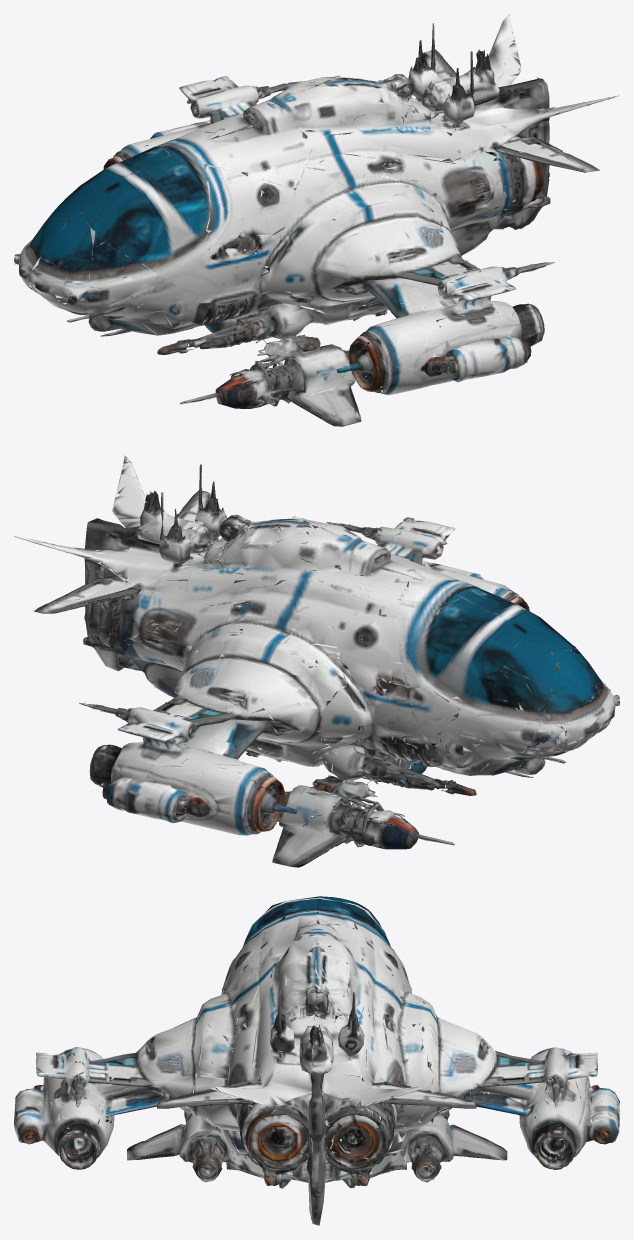
Rendered from scout1.glb.
The picture shows the model from 3 angles, top to bottom: view 1: azimuth 30°, elevation 25°; view 2: azimuth 150°, elevation 25°; view 3: azimuth 270°, elevation 25°; orthographic projection. The views are drawn at different scales.
Parts seen in each view (by area): view 1: Object_11, Object_13, Object_14, Object_12, Object_5, Object_10, Object_7, Object_6, Object_15, Object_9, Object_8; view 2: Object_7, Object_9, Object_8, Object_10, Object_6, Object_5, Object_11, Object_15, Object_12, Object_13, Object_14; view 3: Object_8, Object_11, Object_9, Object_5, Object_14, Object_7, Object_12, Object_6, Object_13, Object_10, Object_15.
Boxes of the visible parts, x1=… form: Object_11: x1=46, y1=49, x2=588, y2=336; Object_13: x1=88, y1=97, x2=610, y2=371; Object_14: x1=180, y1=95, x2=619, y2=426; Object_12: x1=63, y1=51, x2=601, y2=335; Object_5: x1=19, y1=55, x2=554, y2=394; Object_10: x1=29, y1=15, x2=549, y2=322; Object_7: x1=14, y1=39, x2=521, y2=313; Object_6: x1=14, y1=23, x2=521, y2=340; Object_15: x1=348, y1=262, x2=544, y2=393; Object_9: x1=103, y1=49, x2=452, y2=232; Object_8: x1=92, y1=32, x2=515, y2=258; Object_7: x1=42, y1=541, x2=583, y2=816; Object_9: x1=34, y1=583, x2=418, y2=849; Object_8: x1=33, y1=539, x2=497, y2=867; Object_10: x1=14, y1=491, x2=618, y2=846; Object_6: x1=66, y1=492, x2=600, y2=775; Object_5: x1=101, y1=496, x2=601, y2=775; Object_11: x1=113, y1=477, x2=619, y2=777; Object_15: x1=340, y1=523, x2=521, y2=607; Object_12: x1=112, y1=464, x2=619, y2=781; Object_13: x1=122, y1=462, x2=608, y2=710; Object_14: x1=123, y1=455, x2=566, y2=763; Object_8: x1=370, y1=937, x2=583, y2=1174; Object_11: x1=230, y1=896, x2=319, y2=1223; Object_9: x1=392, y1=990, x2=619, y2=1169; Object_5: x1=14, y1=903, x2=373, y2=1181; Object_14: x1=91, y1=987, x2=226, y2=1182; Object_7: x1=317, y1=896, x2=449, y2=1188; Object_12: x1=196, y1=918, x2=293, y2=1188; Object_6: x1=313, y1=905, x2=392, y2=1187; Object_13: x1=160, y1=934, x2=258, y2=1171; Object_10: x1=279, y1=898, x2=441, y2=1225; Object_15: x1=49, y1=1047, x2=131, y2=1169.
Bounding box in the file's own units: 1.88 × 0.918 × 1.9.
1 material, 1 textured.
